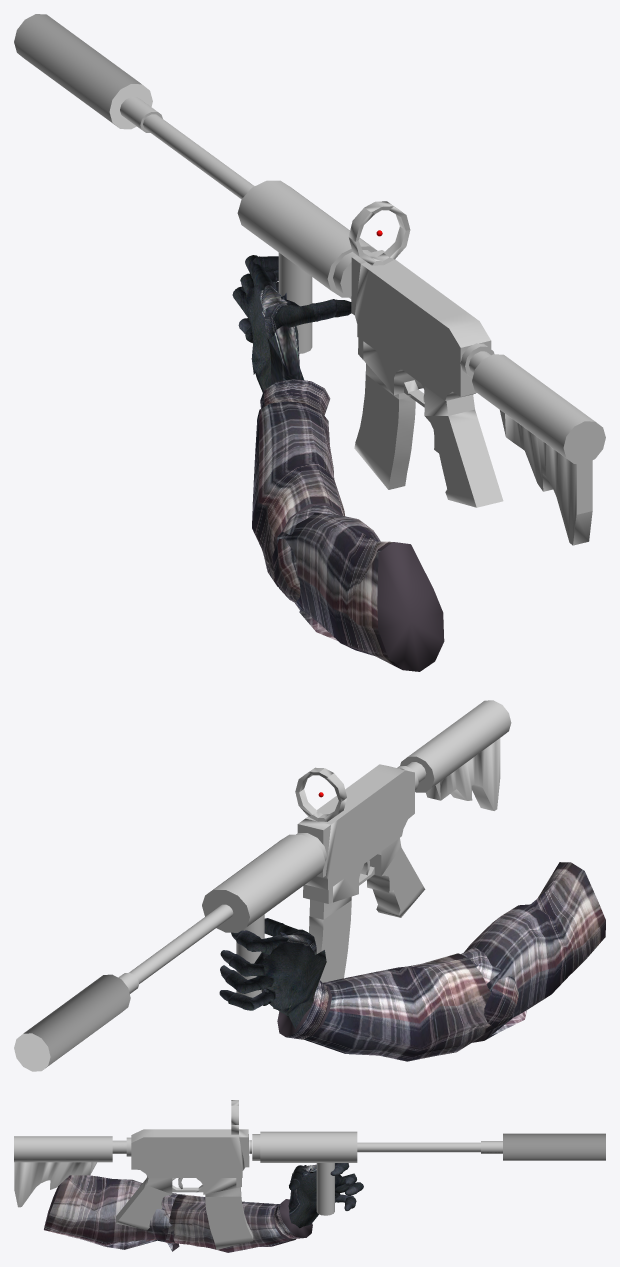
Rendered from oldm4sopmod_ads.fbx.
3 views of the same model, one above another, from view 1: azimuth 30°, elevation 25°; view 2: azimuth 150°, elevation 25°; view 3: azimuth 270°, elevation 25° (orthographic). The views are drawn at different scales.
Parts seen in each view (by area): view 1: larm, m4_body, m4_stock, m4_grip, lhand, m4_silencer, m4_pistolgrip, m4_clip, m4_barrel, m4_tommygrip, m4_ring; view 2: larm, m4_body, m4_stock, lhand, m4_grip, m4_silencer, m4_pistolgrip, m4_clip, m4_barrel, m4_ring, m4_tommygrip; view 3: larm, m4_body, m4_stock, m4_grip, m4_silencer, lhand, m4_clip, m4_pistolgrip, m4_barrel, m4_tommygrip, m4_ring, m4_trigger.
Boxes of the visible parts, box(x1,y1,x2,y2) form: larm: box(252, 379, 444, 671); m4_body: box(351, 250, 491, 400); m4_stock: box(460, 343, 605, 545); m4_grip: box(237, 180, 377, 298); lhand: box(232, 255, 351, 392); m4_silencer: box(14, 14, 152, 129); m4_pistolgrip: box(424, 386, 503, 507); m4_clip: box(354, 363, 415, 489); m4_barrel: box(120, 97, 254, 198); m4_tommygrip: box(278, 252, 312, 353); m4_ring: box(348, 201, 410, 265); larm: box(277, 862, 605, 1061); m4_body: box(297, 764, 414, 903); m4_stock: box(397, 700, 511, 810); lhand: box(219, 918, 326, 1028); m4_grip: box(202, 833, 327, 932); m4_silencer: box(14, 974, 130, 1071); m4_pistolgrip: box(367, 838, 425, 917); m4_clip: box(309, 896, 351, 982); m4_barrel: box(118, 904, 233, 993); m4_ring: box(295, 767, 346, 821); m4_tommygrip: box(236, 914, 264, 997); larm: box(44, 1175, 312, 1252); m4_body: box(131, 1129, 249, 1194); m4_stock: box(14, 1136, 131, 1207); m4_grip: box(249, 1131, 357, 1162); m4_silencer: box(503, 1133, 605, 1160); lhand: box(288, 1163, 363, 1228); m4_clip: box(205, 1187, 253, 1249); m4_pistolgrip: box(116, 1176, 172, 1230); m4_barrel: box(357, 1141, 502, 1153); m4_tommygrip: box(316, 1163, 334, 1215); m4_ring: box(231, 1100, 238, 1134); m4_trigger: box(172, 1178, 203, 1192).
Bounding box in the file's own units: 9.14 × 14.84 × 43.7.
